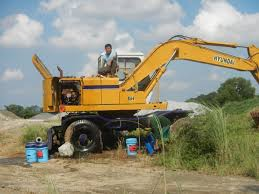excavator: (30, 32, 259, 159)
